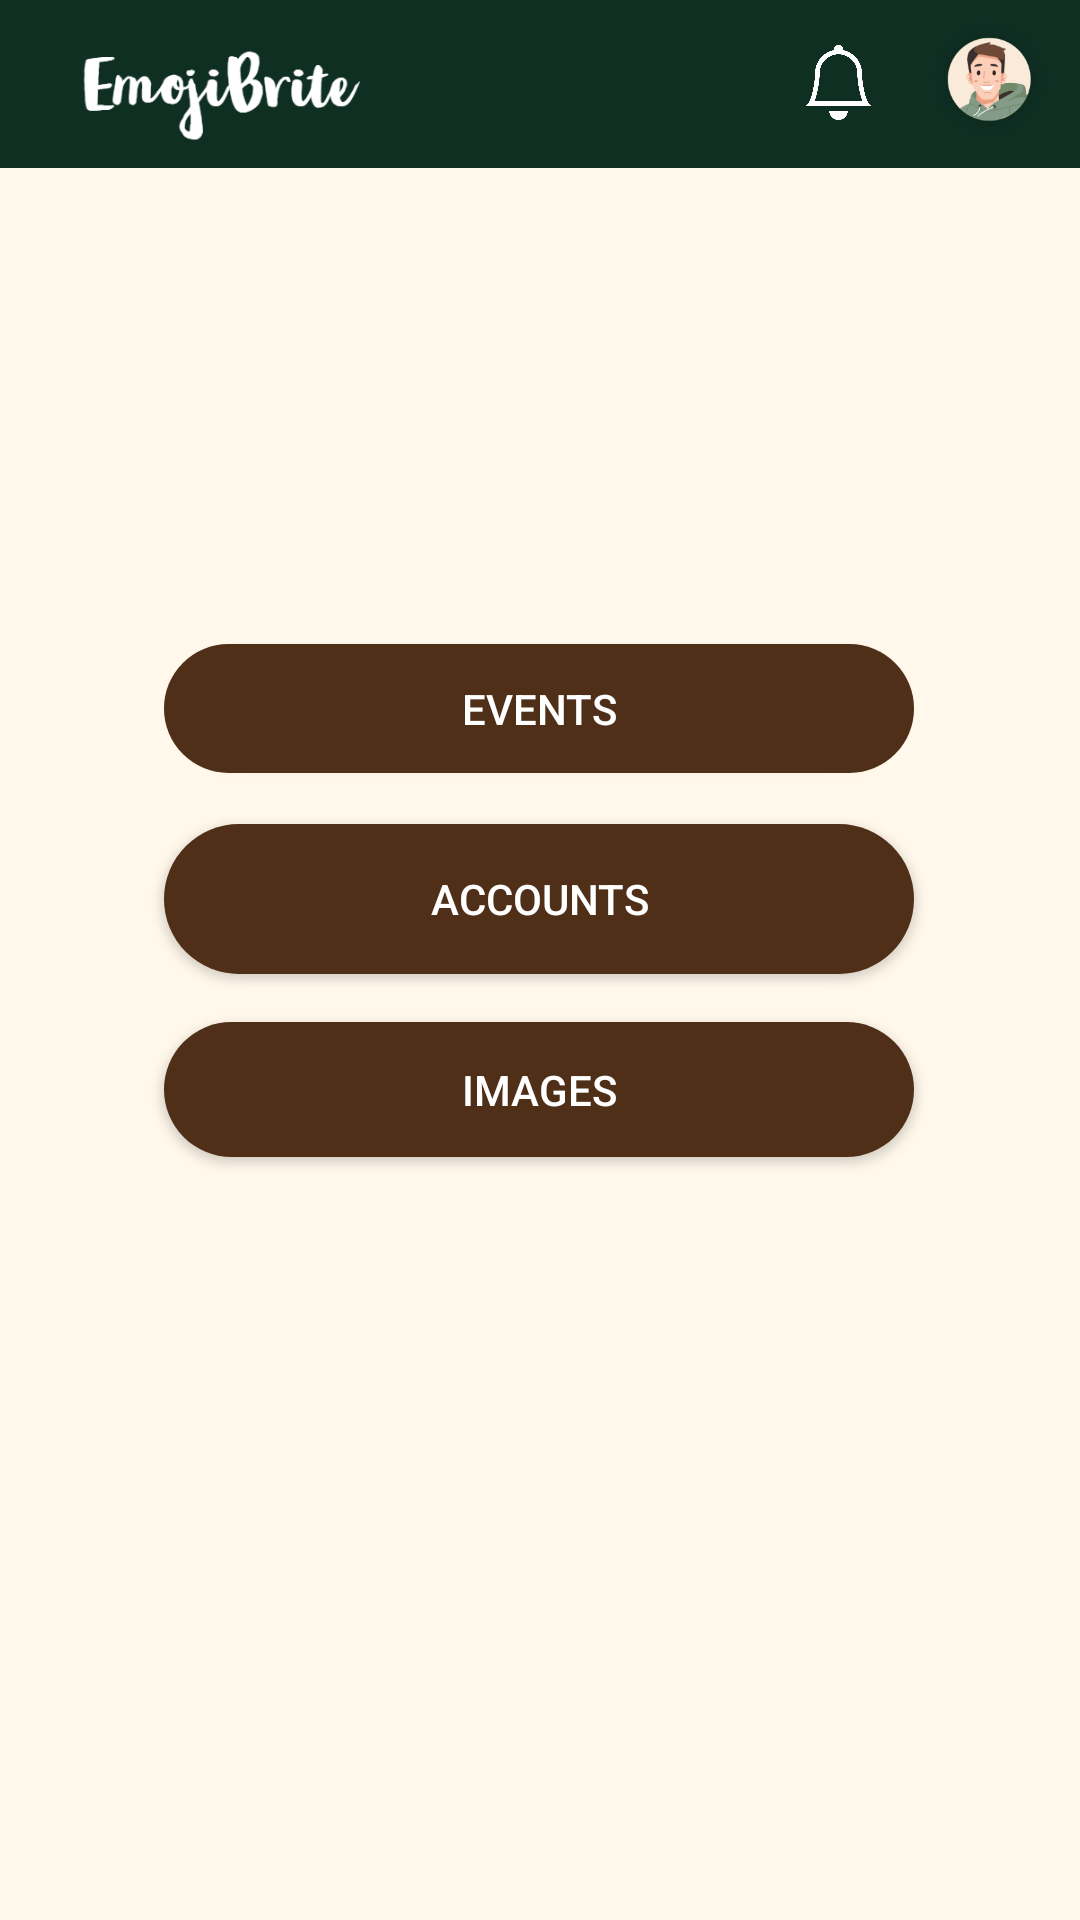

Icons on this 1080w x 1920h Android screen, each with its box as rect(x1, y1, x2, y2):
bi bell: rect(806, 45, 871, 120)
profile pic: rect(947, 38, 1031, 121)
